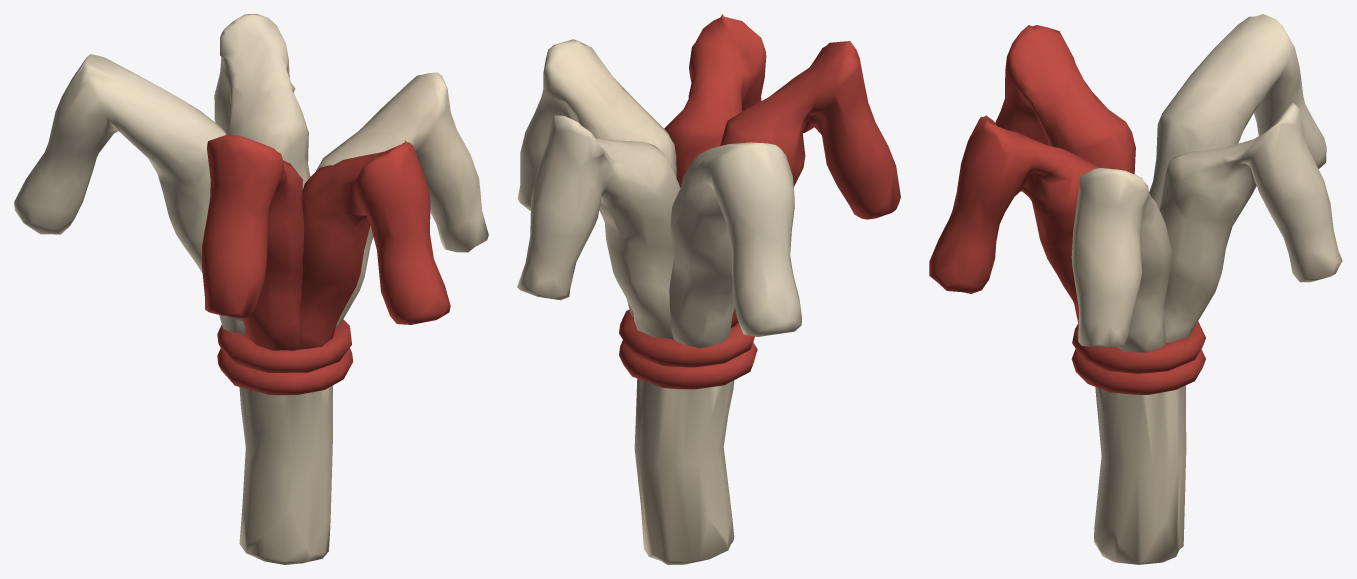
File: den_fringe_tassel_c.glb
3 views of the same model, side by side, from view 1: azimuth 30°, elevation 25°; view 2: azimuth 150°, elevation 25°; view 3: azimuth 270°, elevation 25° (orthographic). The views are drawn at different scales.
Parts seen in each view (by area): view 1: den_fringe_tassel_c; view 2: den_fringe_tassel_c; view 3: den_fringe_tassel_c.
Part boxes in pixels (x1,y1,x2,y2): den_fringe_tassel_c: [14, 14, 488, 564]; den_fringe_tassel_c: [517, 14, 900, 564]; den_fringe_tassel_c: [929, 14, 1342, 564].
Bounding box in the file's own units: 5.57 × 7.01 × 5.53.
